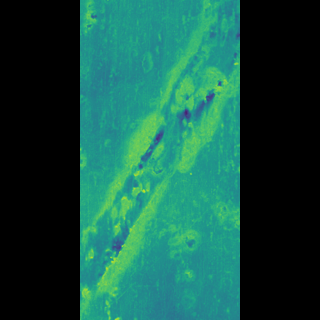Loch: (117, 1, 200, 306)
